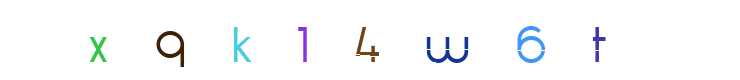1: (291, 0, 371, 80)
4: (324, 0, 404, 80)
6: (384, 0, 464, 80)
K: (264, 0, 344, 80)
Q: (132, 0, 212, 80)
T: (453, 0, 533, 80)
W: (330, 0, 410, 80)
X: (58, 0, 138, 80)
